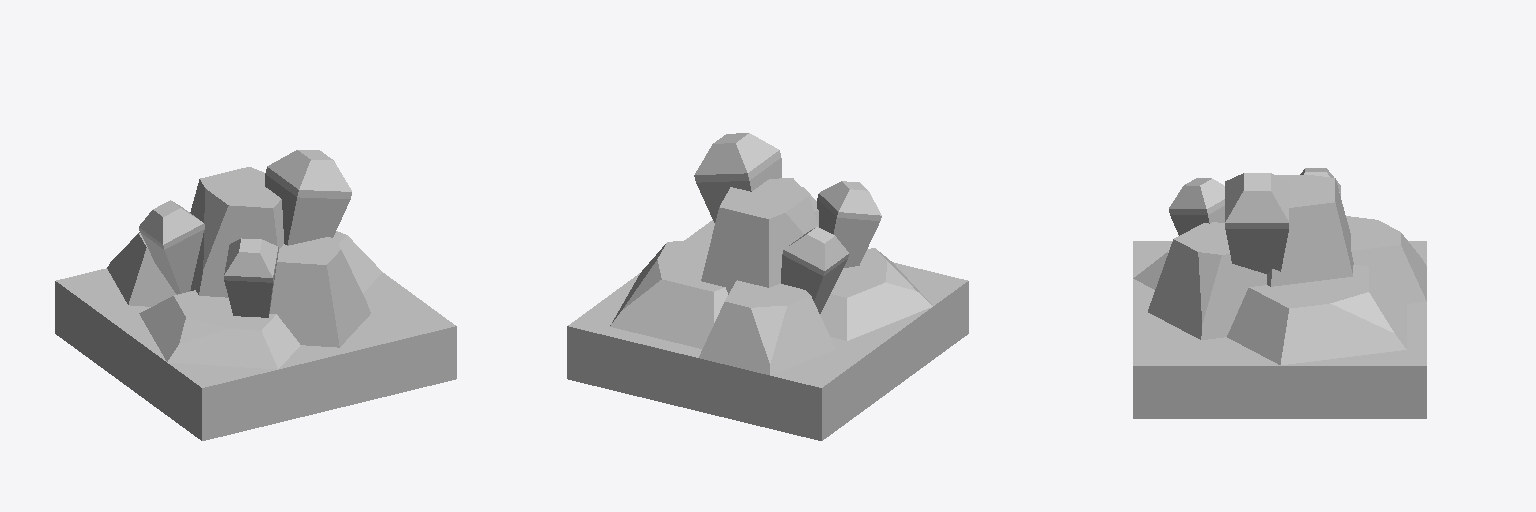
Rendered from Crystal.obj.
3 renders of one model, left to right at view 1: azimuth 30°, elevation 25°; view 2: azimuth 150°, elevation 25°; view 3: azimuth 270°, elevation 25°, orthographic.
Visible parts, largest first — view 1: Crystal, rocks, crystal; view 2: rocks, Crystal, crystal; view 3: rocks, Crystal, crystal.
Part boxes in pixels (bbox=[...]): Crystal: bbox=[55, 268, 456, 440]; rocks: bbox=[107, 167, 382, 369]; crystal: bbox=[139, 150, 351, 317]; rocks: bbox=[610, 178, 932, 375]; Crystal: bbox=[567, 220, 968, 440]; crystal: bbox=[694, 133, 881, 313]; rocks: bbox=[1133, 175, 1426, 364]; Crystal: bbox=[1133, 241, 1426, 418]; crystal: bbox=[1169, 168, 1340, 273].
Bounding box in the file's own units: 1 × 0.7565 × 1.